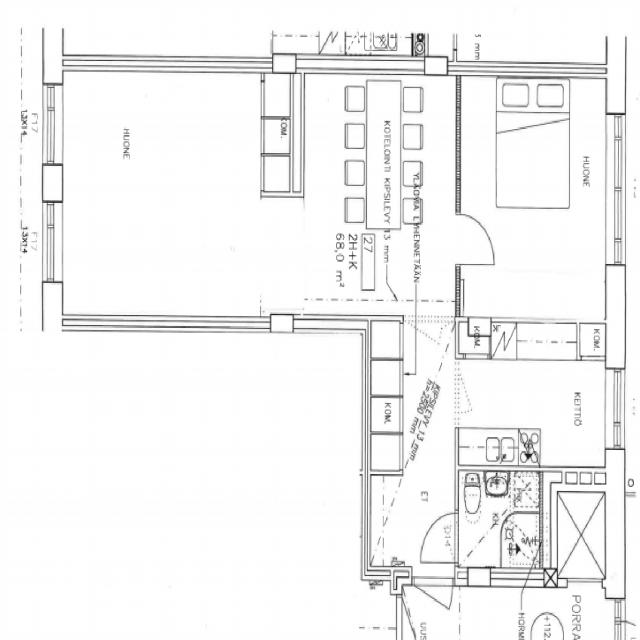door: (414, 569, 452, 640), (455, 216, 494, 263), (421, 513, 458, 562)
